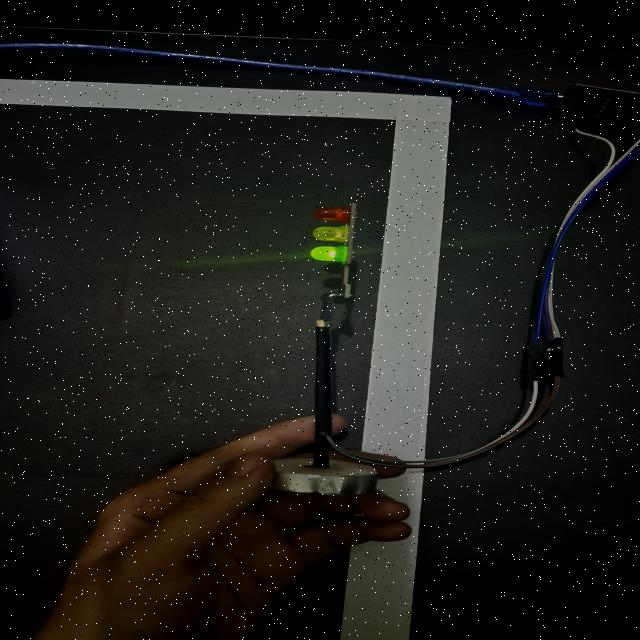Lampu Hijau: (310, 205, 355, 263)
